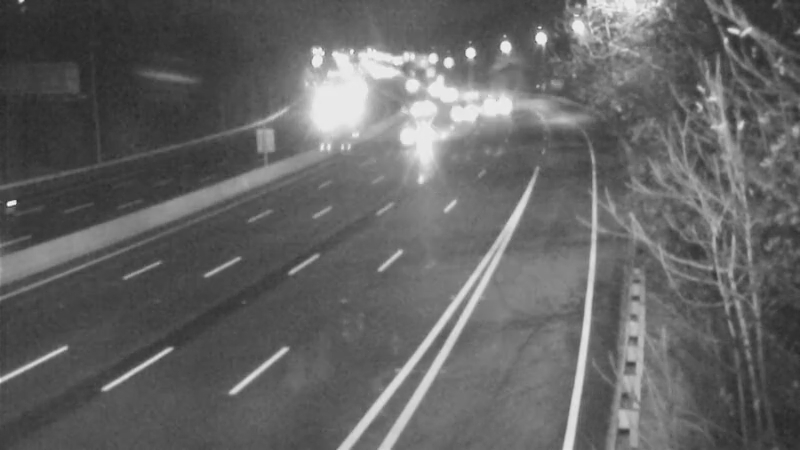vehicle: (1, 162, 67, 242), (381, 58, 431, 108), (396, 82, 446, 132), (466, 81, 516, 131), (433, 86, 483, 136), (388, 110, 438, 160)
